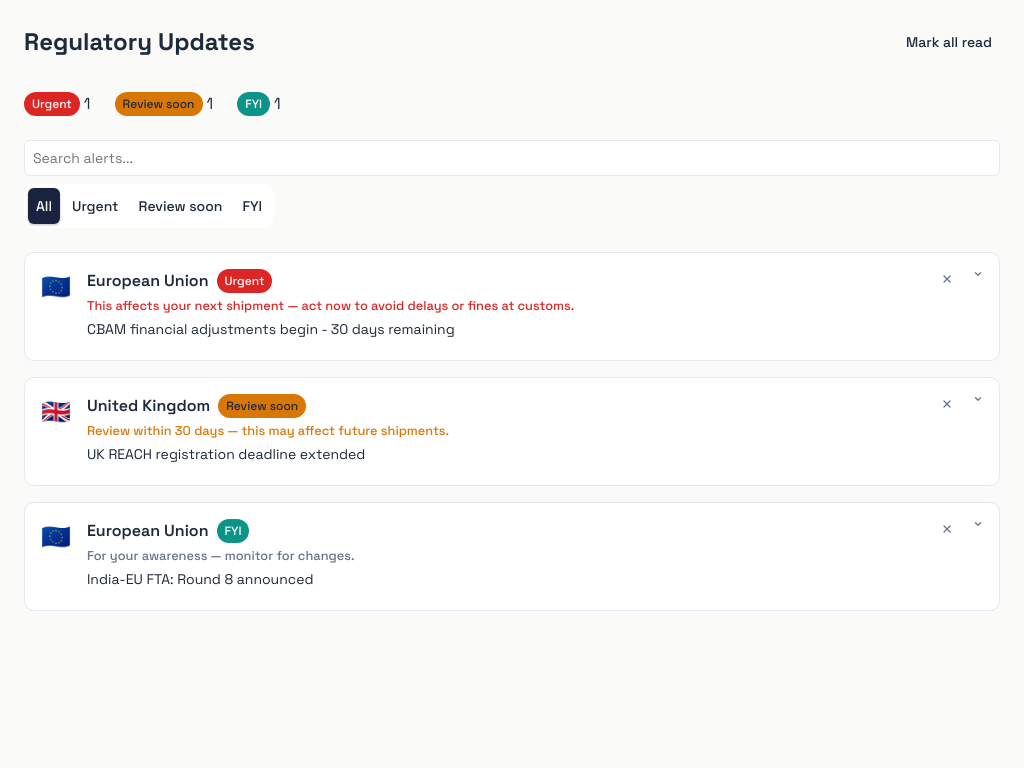
it: Alerts › Alert Display › displays alert type
This screenshot has width=1024, height=768.
Click the button with test id "alert-card" that starts with "European Union" at (512, 306), box [24,252,1000,361]
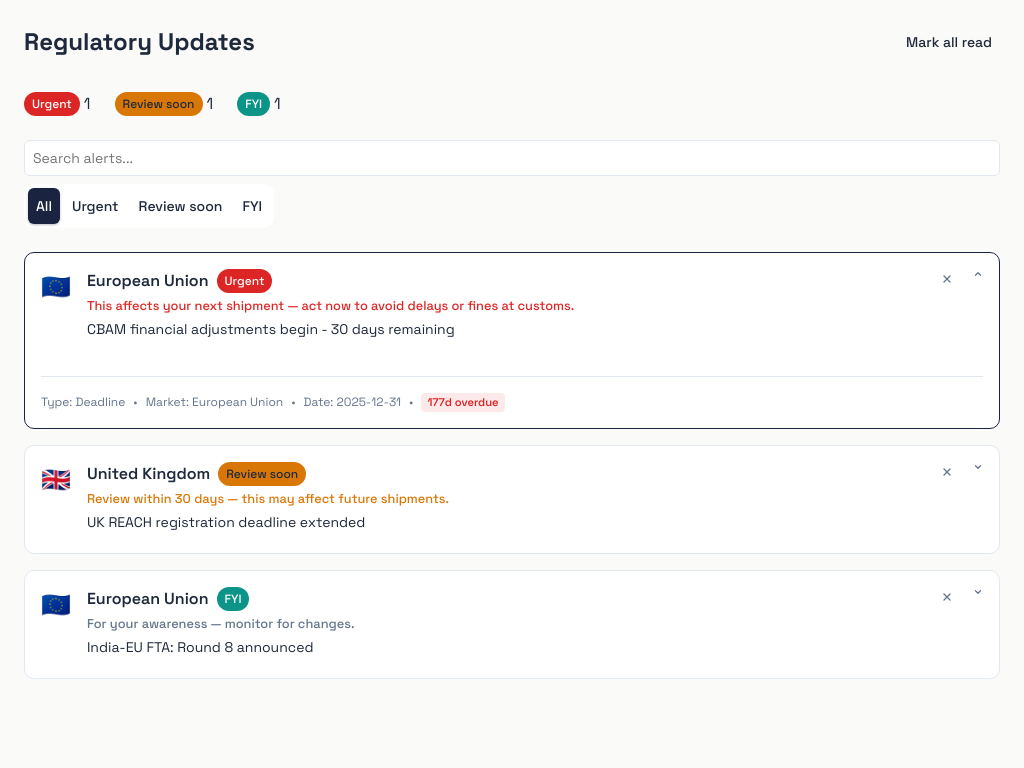
Click the button with test id "alert-card" that starts with "United Kingdom" at (149, 473), box [24,445,1000,554]
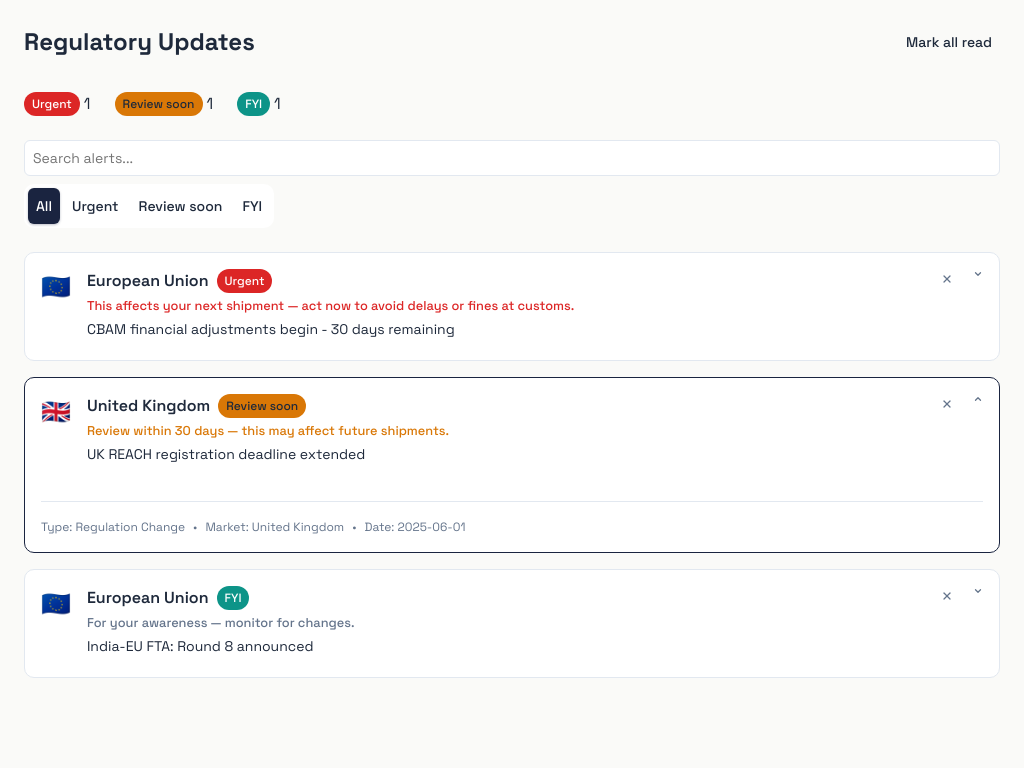
Click the button with test id "alert-card" that starts with "European Union" at (148, 597), box [24,569,1000,678]
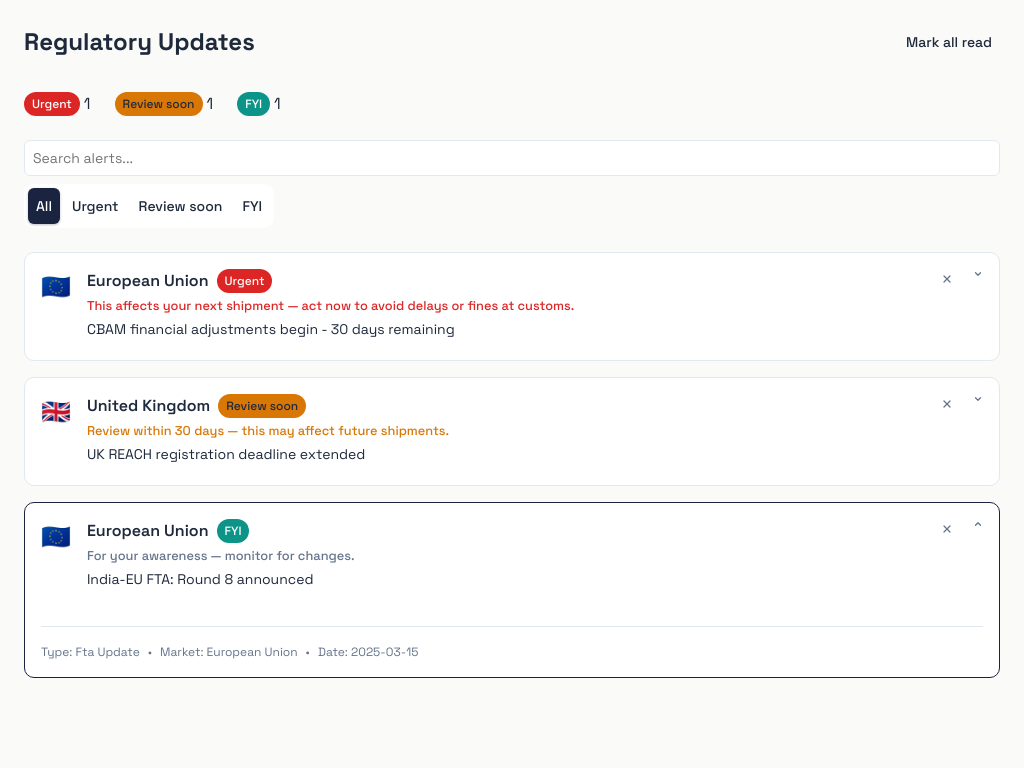
expect the text "UK REACH registration deadline extended" is shown: met, box [87,445,365,463]
expect the text "Type: fta update" is shown: met, box [41,643,140,661]
